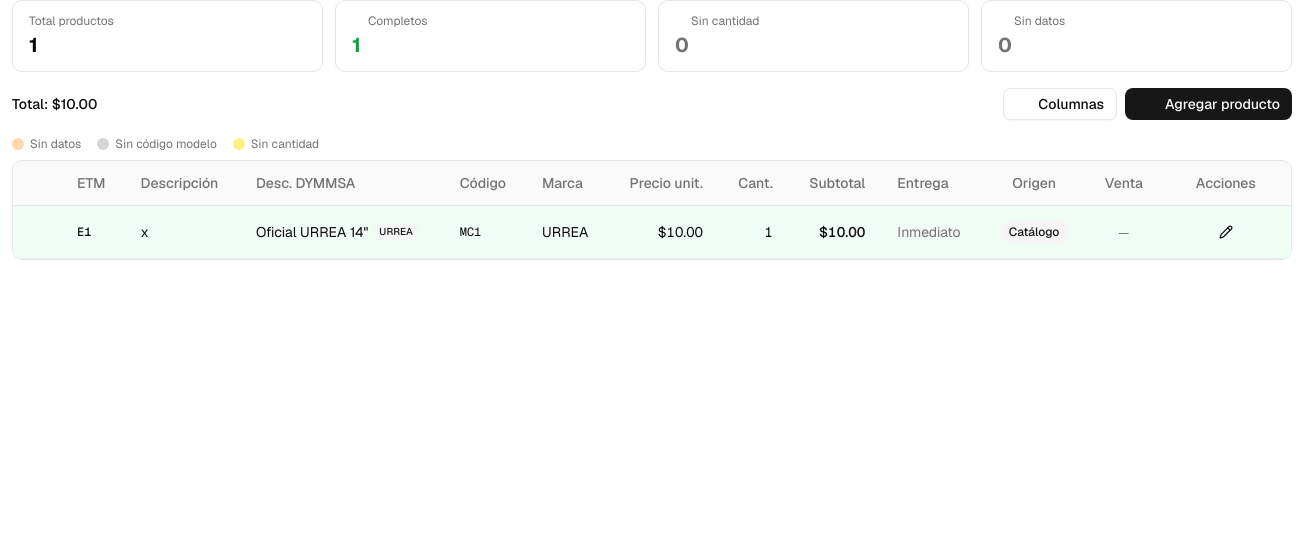
Scenario: QuotationEditor › el picker no ofrece las columnas fijas y sí las ocultables
Click the button "Columnas" at coordinates (1060, 104), box [1003,88,1117,120]
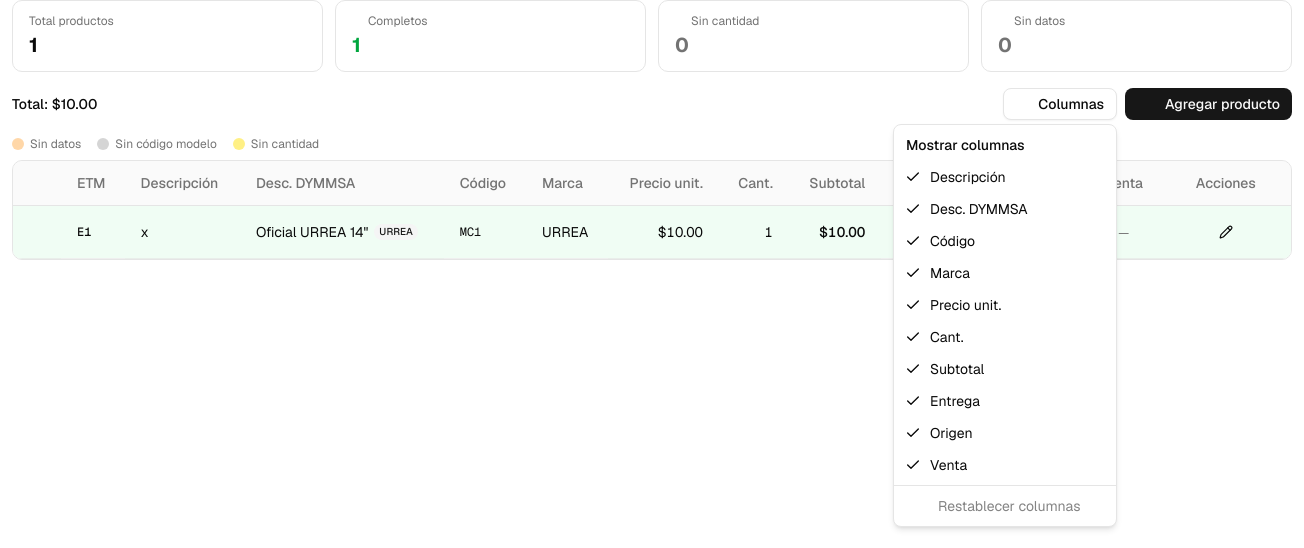
Expected: the menu item "Marca" is shown, [905,264,970,282]
